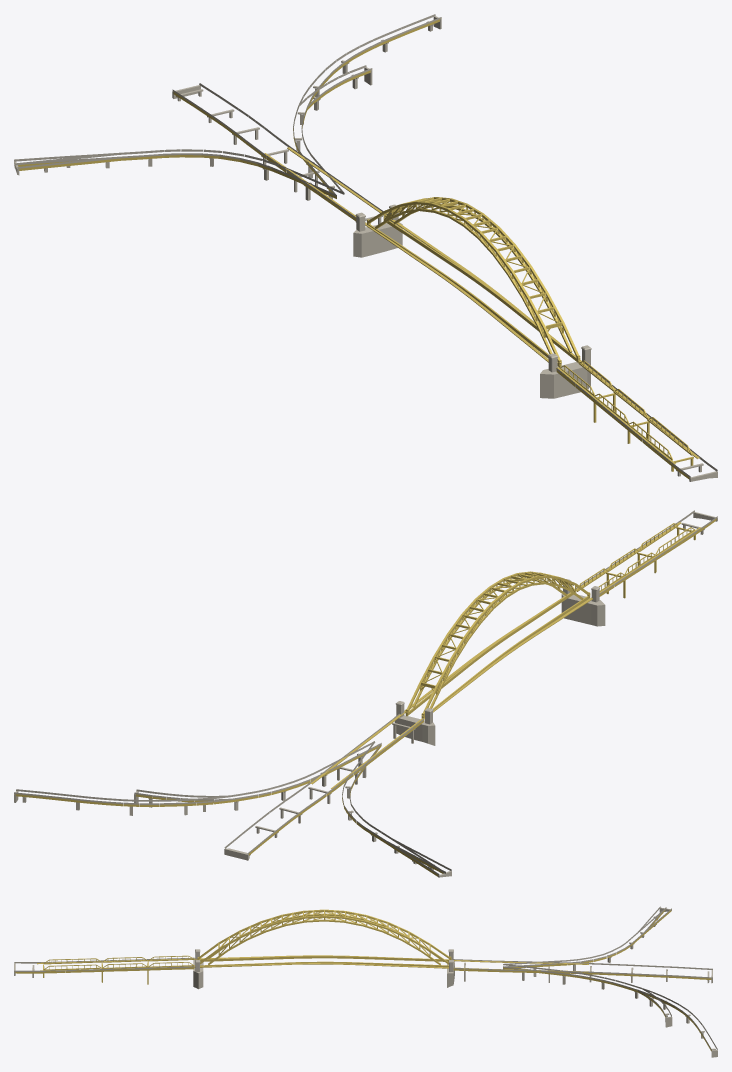
File: pit-west-end-bridge.glb
3 views of the same model, one above another, from view 1: azimuth 30°, elevation 25°; view 2: azimuth 150°, elevation 25°; view 3: azimuth 270°, elevation 25° (orthographic). The views are drawn at different scales.
Parts seen in each view (by area): view 1: West End Bridge; view 2: West End Bridge; view 3: West End Bridge.
Part boxes in pixels (x1,y1,x2,y2): West End Bridge: (14,14,717,481); West End Bridge: (14,510,717,877); West End Bridge: (14,906,717,1057).
Size of the model in its own units: 331 by 71.69 by 660.
